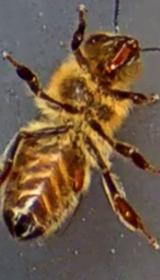varroa_mite: (61, 154, 92, 195)
